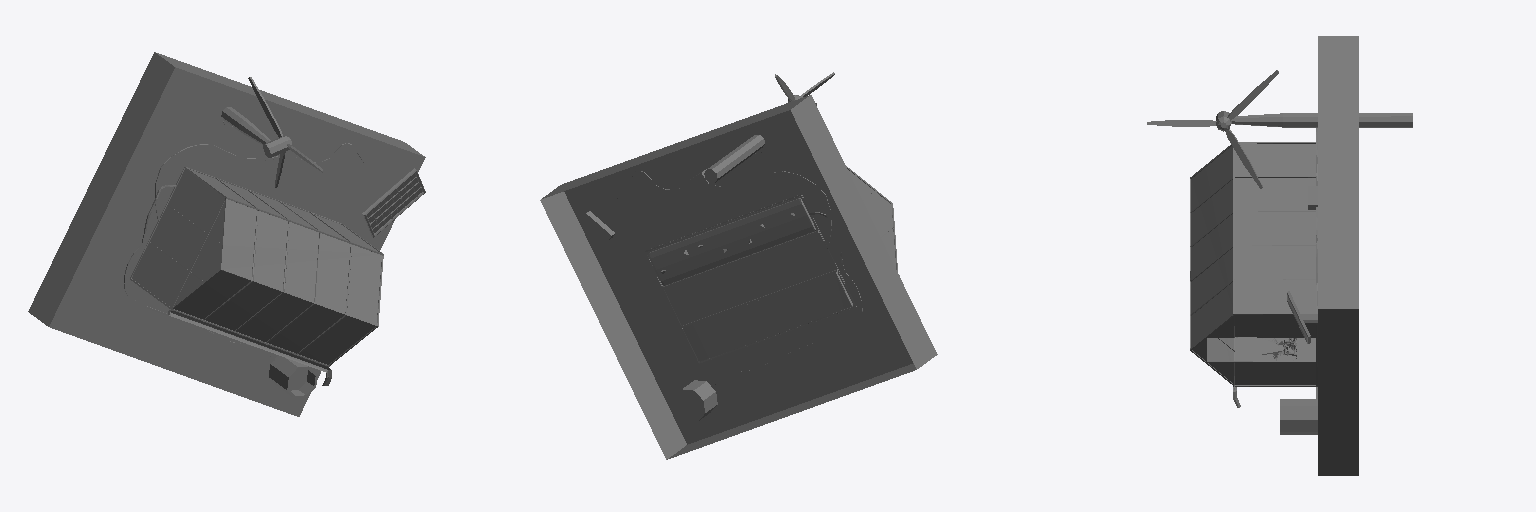
Rendered from Serre_leger.obj.
The picture shows the model from 3 angles: view 1: azimuth 30°, elevation 25°; view 2: azimuth 150°, elevation 25°; view 3: azimuth 270°, elevation 25°; orthographic projection.
Bounding box in the file's own units: 20.86 × 20.12 × 12.78.